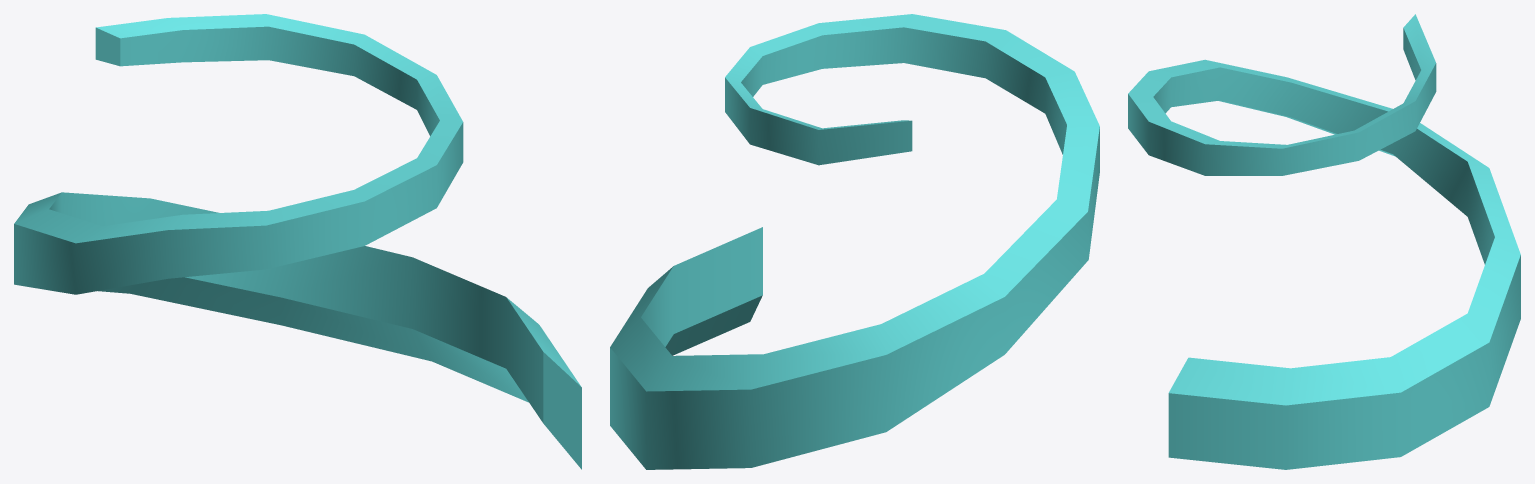
The model's file is Shush_1.fbx.
3 renders of one model, left to right at view 1: azimuth 30°, elevation 25°; view 2: azimuth 150°, elevation 25°; view 3: azimuth 270°, elevation 25°, orthographic. The views are drawn at different scales.
Parts seen in each view (by area): view 1: Shush_1; view 2: Shush_1; view 3: Shush_1.
Boxes of the visible parts, left/top/right/bottom form: Shush_1: left=14, top=14, right=581, bottom=469; Shush_1: left=610, top=14, right=1099, bottom=469; Shush_1: left=1128, top=14, right=1520, bottom=469.
Bounding box in the file's own units: 129 × 109 × 122.
